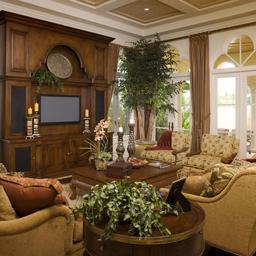Matera: (120, 44, 163, 142)
Puerta: (214, 45, 255, 159)
